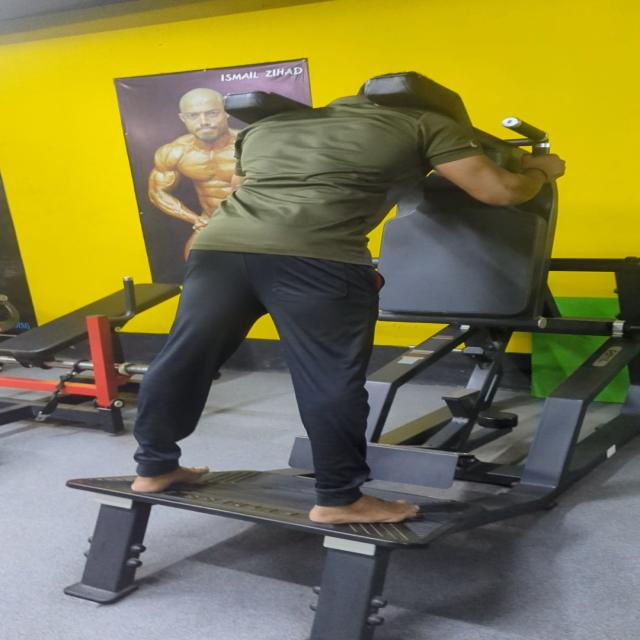Normal_SquatsWithBarbell: (83, 67, 640, 559)
